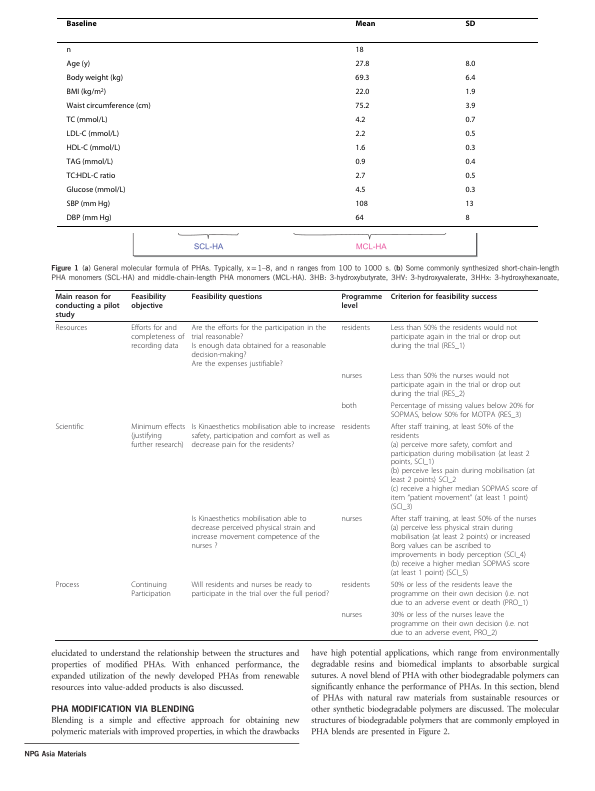borderless: (54, 288, 538, 640), (56, 16, 538, 226)
cell: (390, 422, 538, 512), (390, 514, 537, 578), (190, 323, 327, 368), (190, 514, 320, 551), (190, 422, 336, 449), (390, 580, 530, 608), (390, 610, 530, 638), (390, 323, 521, 351), (390, 371, 521, 398), (190, 580, 330, 599), (390, 401, 535, 419), (55, 292, 120, 319), (130, 323, 185, 351), (130, 422, 186, 449), (390, 292, 498, 301), (66, 101, 152, 111), (130, 580, 172, 599), (340, 292, 383, 310), (130, 292, 167, 310), (190, 292, 263, 301), (66, 185, 127, 195), (66, 73, 124, 83), (66, 143, 121, 153), (66, 129, 120, 139), (66, 171, 116, 181), (66, 157, 114, 167), (66, 213, 112, 223), (66, 199, 111, 209), (66, 115, 108, 125), (66, 87, 107, 97), (55, 323, 88, 333), (340, 323, 371, 333), (340, 580, 371, 590), (54, 422, 85, 431), (340, 422, 371, 431), (54, 580, 80, 590), (66, 19, 98, 27), (66, 59, 91, 69), (340, 514, 363, 524), (340, 610, 363, 620), (340, 371, 363, 380), (354, 19, 376, 27), (340, 401, 358, 410), (354, 59, 370, 69), (354, 73, 370, 83), (354, 87, 370, 97), (354, 101, 370, 111), (354, 199, 369, 209), (464, 59, 476, 69), (464, 73, 476, 83), (464, 87, 476, 97), (464, 101, 476, 111), (354, 115, 366, 125), (464, 115, 476, 125), (354, 129, 366, 139), (464, 129, 476, 139), (354, 143, 366, 153), (464, 143, 476, 153), (354, 157, 366, 167), (464, 157, 476, 167), (354, 171, 366, 181), (464, 171, 476, 181), (354, 185, 366, 195), (354, 45, 365, 55), (465, 185, 476, 195), (464, 199, 475, 209), (354, 213, 365, 223), (464, 19, 476, 27), (464, 213, 471, 223), (66, 45, 72, 55)
